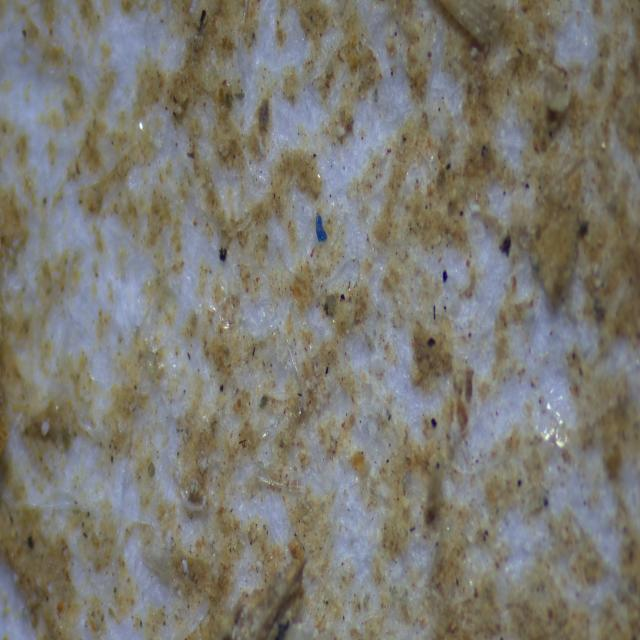microplastic: (308, 212, 329, 244)
